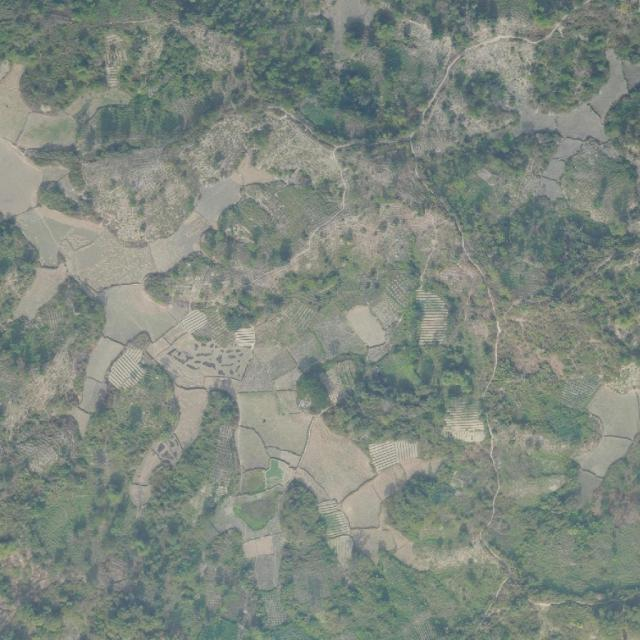agricultural_land: (123, 377, 217, 517), (334, 439, 451, 541), (284, 410, 380, 508), (142, 324, 254, 403), (345, 509, 435, 592), (229, 385, 315, 455), (99, 281, 178, 345), (316, 496, 361, 570), (102, 342, 156, 397), (342, 301, 390, 354), (171, 386, 208, 451), (81, 335, 124, 385), (239, 355, 282, 403), (367, 436, 420, 473), (416, 288, 450, 345), (440, 401, 485, 444), (151, 434, 187, 471), (263, 348, 298, 381), (77, 378, 107, 416), (201, 375, 241, 399), (179, 305, 210, 335), (271, 368, 305, 395), (274, 389, 300, 416), (162, 322, 188, 346), (234, 327, 255, 349)
